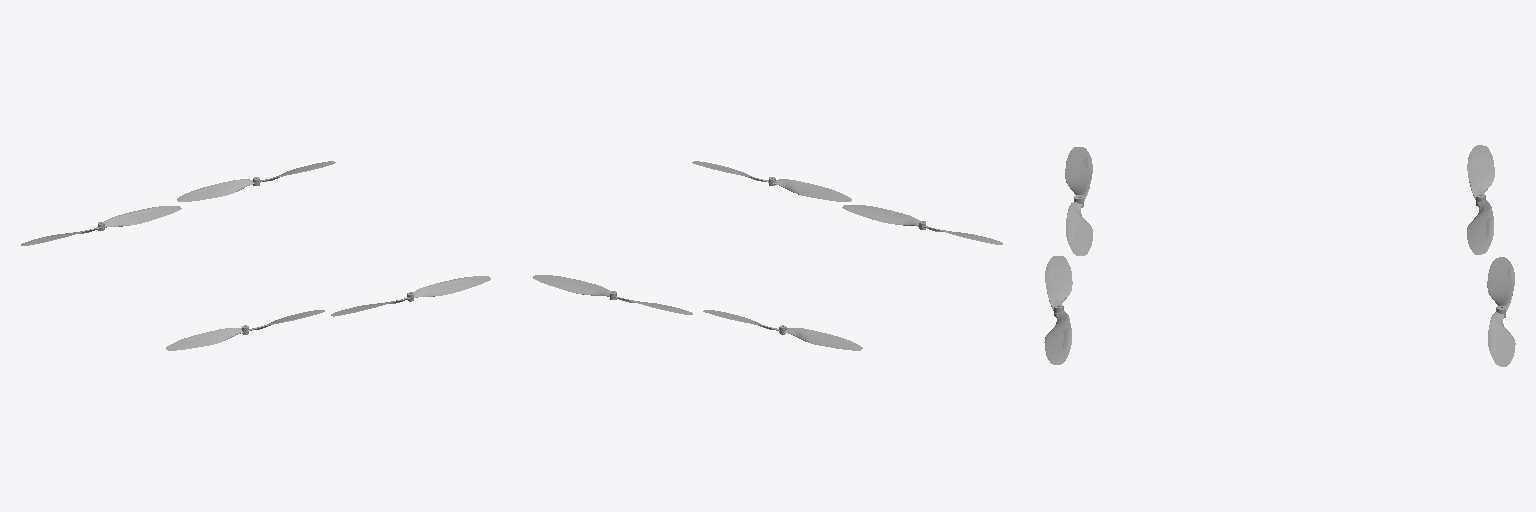
robot.urdf — iris:
<?xml version="1.0" ?>
<robot name="iris">

  <material name="grey">
    <color rgba=".7 .7 .7 1"/>
  </material>

  <material name="green">
    <color rgba=".1 .8 .1 1"/>
  </material>

  <material name="blue">
    <color rgba=".3 .5 .8 1"/>
  </material>

  <material name="red">
    <color rgba=".9 .1 .1 1"/>
  </material>

  <joint name="imu_joint" type="fixed">
    <parent link="base_link"/>
    <child link="imu_link"/>
    <origin xyz="0 0 0" rpy="0 0 0"/>
    <axis xyz="1 0 0"/>
    <limit lower="0.0" upper="0.0" effort="0.0" velocity="0.0"/>
  </joint>
  <joint name="rotor_0_joint" type="revolute">
    <parent link="base_link"/>
    <child link="rotor_0"/>
    <origin xyz="0.13  -0.22   0.023" rpy="0 0 0"/>
    <axis xyz="0 0 1"/>
    <limit lower="-1e+16" upper="1e+16" effort="0.0" velocity="0.0"/>
  </joint>
  <joint name="rotor_1_joint" type="revolute">
    <parent link="base_link"/>
    <child link="rotor_1"/>
    <origin xyz="-0.13   0.2    0.023" rpy="0 0 0"/>
    <axis xyz="0 0 1"/>
    <limit lower="-1e+16" upper="1e+16" effort="0.0" velocity="0.0"/>
  </joint>
  <joint name="rotor_2_joint" type="revolute">
    <parent link="base_link"/>
    <child link="rotor_2"/>
    <origin xyz="0.13  0.22  0.023" rpy="0 0 0"/>
    <axis xyz="0 0 1"/>
    <limit lower="-1e+16" upper="1e+16" effort="0.0" velocity="0.0"/>
  </joint>
  <joint name="rotor_3_joint" type="revolute">
    <parent link="base_link"/>
    <child link="rotor_3"/>
    <origin xyz="-0.13  -0.2    0.023" rpy="0 0 0"/>
    <axis xyz="0 0 1"/>
    <limit lower="-1e+16" upper="1e+16" effort="0.0" velocity="0.0"/>
  </joint>
  <joint name="gps0_joint" type="fixed">
    <parent link="base_link"/>
    <child link="gps0__link"/>
    <origin xyz="0.1 0  0" rpy="0 0 0"/>
    <axis xyz="0 0 0"/>
    <limit lower="0" upper="0" effort="0" velocity="0"/>
  </joint>
  <link name="base_link">
    <!-- <inertial>
      <mass value="1.5"/>
      <origin xyz="0 0 0" rpy="0 0 0"/>
      <inertia ixx="0.029125" ixy="0" ixz="0" iyy="0.029125" iyz="0" izz="0.055225"/>
    </inertial> -->
    <collision name="base_link_inertia_collision">
      <origin xyz="0 0 0" rpy="0 0 0"/>
      <geometry>
        <box size="0.47 0.47 0.11"/>
      </geometry>
    </collision>
    <visual>
      <origin xyz="0 0 0" rpy="0 0 0"/>
      <geometry>
        <mesh filename="package://fss_px4_sim/model/meshes/iris.stl" scale="1 1 1"/>
      </geometry>
      <material name="grey"/> <!-- Added by Peixuan Shu -->
    </visual>
  </link>
  <link name="imu_link">
    <inertial>
      <mass value="0.015"/>
      <origin xyz="0 0 0" rpy="0 0 0"/>
      <inertia ixx="1e-05" ixy="0" ixz="0" iyy="1e-05" iyz="0" izz="1e-05"/>
    </inertial>
  </link>
  <link name="rotor_0">
    <inertial>
      <mass value="0.005"/>
      <origin xyz="0 0 0" rpy="0 0 0"/>
      <inertia ixx="9.75e-07" ixy="0" ixz="0" iyy="0.000273104" iyz="0" izz="0.000274004"/>
    </inertial>
    <collision name="rotor_0_collision">
      <origin xyz="0 0 0" rpy="0 0 0"/>
      <geometry>
        <cylinder radius="0.128" length="0.005"/>
      </geometry>
    </collision>
    <visual name="rotor_0_visual">
      <origin xyz="0 0 0" rpy="0 0 0"/>
      <geometry>
        <mesh filename="package://fss_px4_sim/model/meshes/iris_prop_ccw.stl" scale="1 1 1"/>
      </geometry>
      <material name="grey"/> <!-- Added by Peixuan Shu -->
    </visual>
  </link>
  <link name="rotor_1">
    <inertial>
      <mass value="0.005"/>
      <origin xyz="0 0 0" rpy="0 0 0"/>
      <inertia ixx="9.75e-07" ixy="0" ixz="0" iyy="0.000273104" iyz="0" izz="0.000274004"/>
    </inertial>
    <collision name="rotor_1_collision">
      <origin xyz="0 0 0" rpy="0 0 0"/>
      <geometry>
        <cylinder radius="0.128" length="0.005"/>
      </geometry>
    </collision>
    <visual>
      <origin xyz="0 0 0" rpy="0 0 0"/>
      <geometry>
        <mesh filename="package://fss_px4_sim/model/meshes/iris_prop_ccw.stl" scale="1 1 1"/>
      </geometry>
      <material name="grey"/> <!-- Added by Peixuan Shu -->
    </visual>
  </link>
  <link name="rotor_2">
    <inertial>
      <mass value="0.005"/>
      <origin xyz="0 0 0" rpy="0 0 0"/>
      <inertia ixx="9.75e-07" ixy="0" ixz="0" iyy="0.000273104" iyz="0" izz="0.000274004"/>
    </inertial>
    <collision name="rotor_2_collision">
      <origin xyz="0 0 0" rpy="0 0 0"/>
      <geometry>
        <cylinder radius="0.128" length="0.005"/>
      </geometry>
    </collision>
    <visual name="rotor_2_visual">
      <origin xyz="0 0 0" rpy="0 0 0"/>
      <geometry>
        <mesh filename="package://fss_px4_sim/model/meshes/iris_prop_cw.stl" scale="1 1 1"/>
      </geometry>
      <material name="grey"/> <!-- Added by Peixuan Shu -->
    </visual>
  </link>
  <link name="rotor_3">
    <inertial>
      <mass value="0.005"/>
      <origin xyz="0 0 0" rpy="0 0 0"/>
      <inertia ixx="9.75e-07" ixy="0" ixz="0" iyy="0.000273104" iyz="0" izz="0.000274004"/>
    </inertial>
    <collision name="rotor_3_collision">
      <origin xyz="0 0 0" rpy="0 0 0"/>
      <geometry>
        <cylinder radius="0.128" length="0.005"/>
      </geometry>
    </collision>
    <visual name="rotor_3_visual">
      <origin xyz="0 0 0" rpy="0 0 0"/>
      <geometry>
        <mesh filename="package://fss_px4_sim/model/meshes/iris_prop_cw.stl" scale="1 1 1"/>
      </geometry>
      <material name="grey"/> <!-- Added by Peixuan Shu -->
    </visual>
  </link>
  <link name="gps0__link">
    <inertial>
      <mass value="0.015"/>
      <origin xyz="0 0 0" rpy="0 0 0"/>
      <inertia ixx="1e-05" ixy="0" ixz="0" iyy="1e-05" iyz="0" izz="1e-05"/>
    </inertial>
    <!-- <visual name="gps0__visual">
      <origin xyz="0 0 0" rpy="0 0 0"/>
      <geometry>
        <cylinder radius="0.01" length="0.002"/>
      </geometry>
    </visual> -->
  </link>
</robot>

--- Facts derived from the render (not from the file) ---
Views: 3 orthographic renders of the robot side by side, from view 1: azimuth 30°, elevation 25°; view 2: azimuth 150°, elevation 25°; view 3: azimuth 270°, elevation 25°.
Robot: iris — 7 links, 6 joints (4 revolute, 2 fixed); root link base_link; default pose: every joint at zero.
Links seen in each view (by area): view 1: rotor_0, rotor_1, rotor_2, rotor_3; view 2: rotor_3, rotor_1, rotor_2, rotor_0; view 3: rotor_1, rotor_2, rotor_3, rotor_0.
Boxes of the visible links, box(x1,y1,x2,y2) form: rotor_0: box(331, 276, 490, 316); rotor_1: box(21, 206, 181, 245); rotor_2: box(177, 161, 335, 201); rotor_3: box(166, 310, 324, 350); rotor_3: box(842, 205, 1002, 244); rotor_1: box(703, 310, 862, 350); rotor_2: box(533, 275, 692, 314); rotor_0: box(692, 161, 851, 201); rotor_1: box(1467, 145, 1494, 254); rotor_2: box(1487, 257, 1515, 366); rotor_3: box(1065, 147, 1092, 255); rotor_0: box(1044, 256, 1072, 364).
Bounding box of the posed robot: 0.5214 × 0.4686 × 0.0103 m (x, y, z).
4 mesh visuals loaded from 3 distinct referenced files (2 binary STL); not drawn: 1 (reference not matched to a file when rendering).
